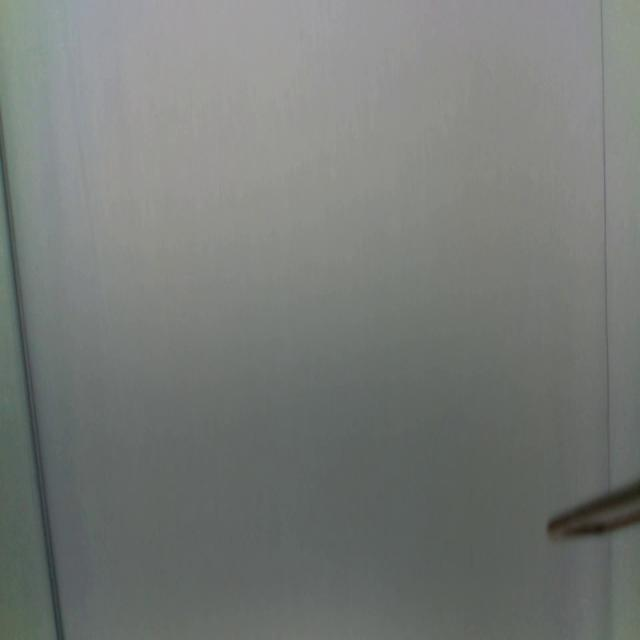crease: (1, 109, 64, 640), (598, 3, 614, 494)
